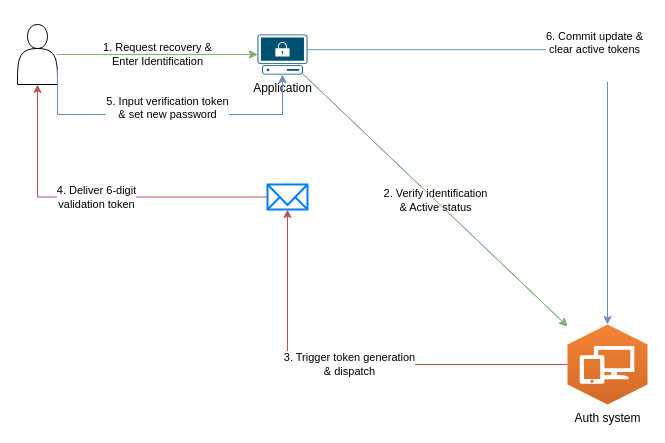
Some shapes in this 665 by 443 pixel diagram are drawn without their labels. Here are the shapes that lost their labels. From the top down, the centre of each, then its label:
At (x=37, y=54): "Client".
At (x=287, y=196): "Email/SMS Service".
